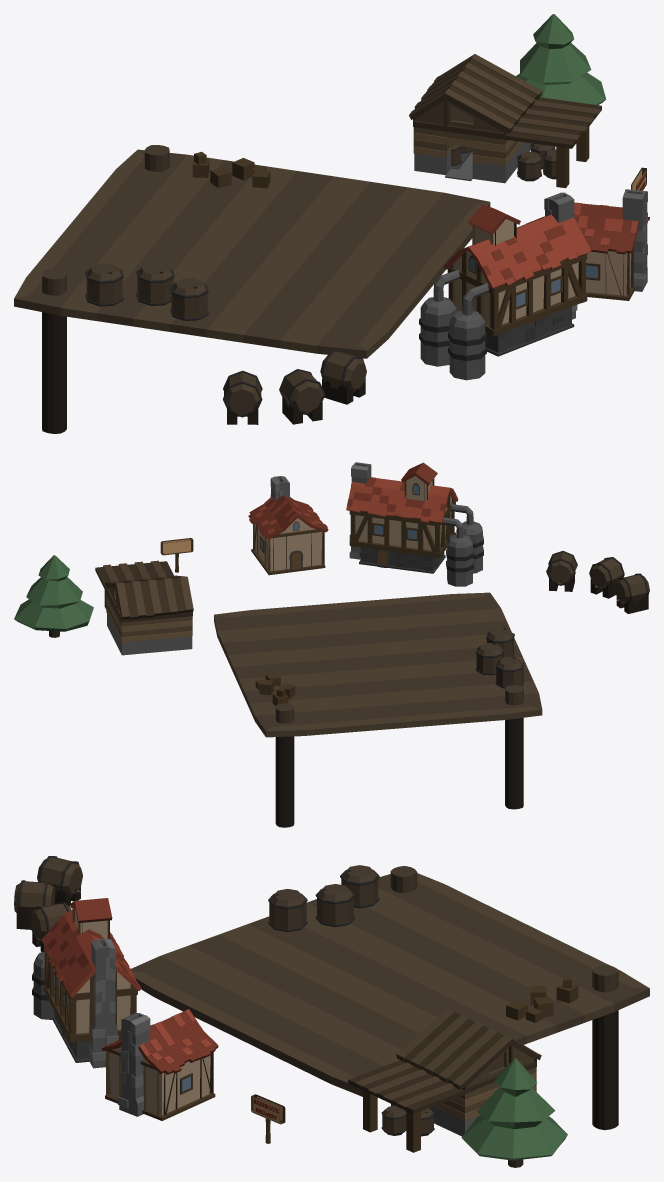
The model's file is Beerbog.glb.
3 renders of one model, top to bottom at view 1: azimuth 30°, elevation 25°; view 2: azimuth 150°, elevation 25°; view 3: azimuth 270°, elevation 25°, orthographic. The views are drawn at different scales.
Visible parts, largest first — view 1: Dock.001, Beerbogs Brewery.001, Shed, Gargadok House.002, Beerbog Tree, Barrell.007, Barrell.008, Barrell.009, Crates, Barrell.003, Barrell.002, Barrell.001; view 2: Dock.001, Beerbogs Brewery.001, Shed, Gargadok House.002, Beerbog Tree, Barrell.009, Barrell.008, Barrell.007, Barrell.003, Crates, Barrell.001, Beerbogs Sign (+1 smaller); view 3: Dock.001, Shed, Beerbogs Brewery.001, Gargadok House.002, Beerbog Tree, Barrell.009, Crates, Barrell.002, Barrell.001, Barrell.008, Barrell.003, Barrell.007 (+1 smaller).
Boxes of the visible parts, x1,y1,x2,y2 form: Dock.001: [14, 145, 490, 433]; Beerbogs Brewery.001: [419, 192, 591, 380]; Shed: [409, 54, 601, 188]; Gargadok House.002: [574, 189, 649, 300]; Beerbog Tree: [516, 14, 606, 105]; Barrell.007: [320, 350, 366, 404]; Barrell.008: [279, 369, 325, 424]; Barrell.009: [223, 370, 262, 424]; Crates: [192, 151, 270, 188]; Barrell.003: [85, 263, 123, 306]; Barrell.002: [170, 278, 208, 320]; Barrell.001: [136, 263, 174, 305]; Dock.001: [214, 592, 542, 827]; Beerbogs Brewery.001: [346, 462, 483, 586]; Shed: [95, 560, 193, 655]; Gargadok House.002: [248, 476, 328, 575]; Beerbog Tree: [14, 555, 93, 637]; Barrell.009: [615, 573, 649, 613]; Barrell.008: [589, 557, 624, 598]; Barrell.007: [546, 551, 577, 591]; Barrell.003: [495, 656, 524, 688]; Crates: [255, 673, 295, 705]; Barrell.001: [475, 643, 504, 675]; Beerbogs Sign: [160, 538, 193, 572]; Dock.001: [131, 866, 649, 1130]; Shed: [348, 1008, 541, 1152]; Beerbogs Brewery.001: [32, 898, 141, 1068]; Gargadok House.002: [101, 1009, 218, 1120]; Beerbog Tree: [461, 1058, 567, 1167]; Barrell.009: [37, 856, 82, 906]; Crates: [506, 976, 578, 1022]; Barrell.002: [268, 889, 307, 932]; Barrell.001: [315, 884, 355, 927]; Barrell.008: [14, 880, 54, 929]; Barrell.003: [340, 865, 379, 908]; Barrell.007: [30, 902, 71, 951].
Size of the model in its own units: 4.24 by 1.67 by 3.66.
